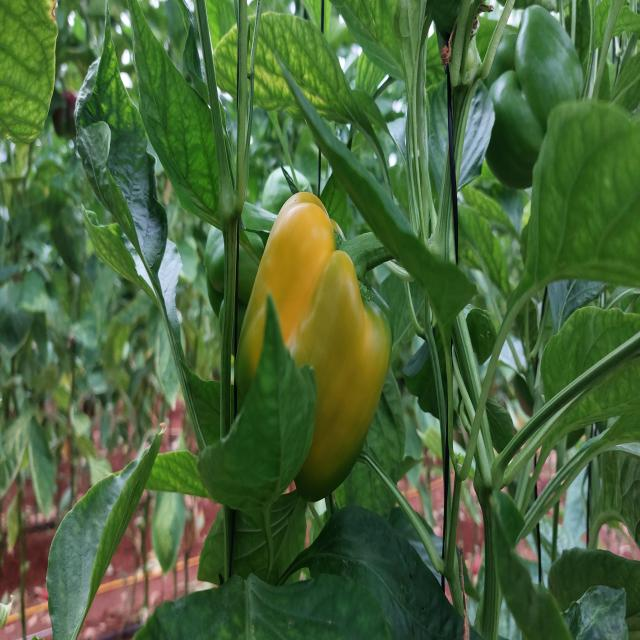GreenishYellow--Can-be-Harvested: (202, 150, 407, 484)
